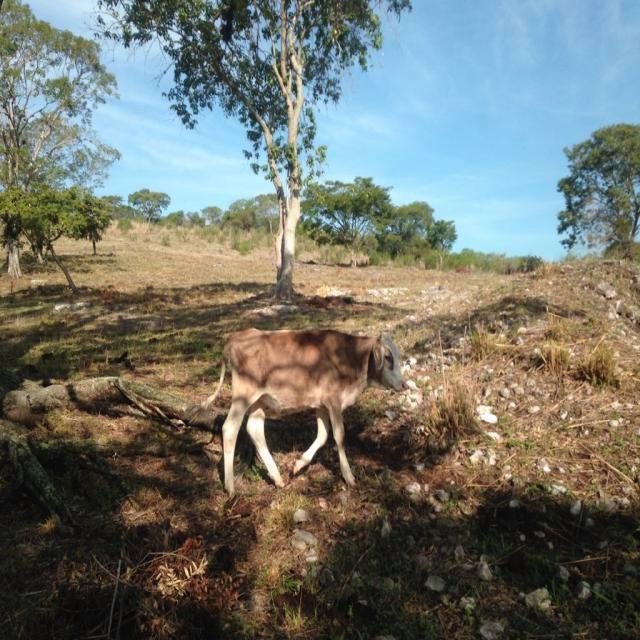cow: (222, 329, 404, 494)
